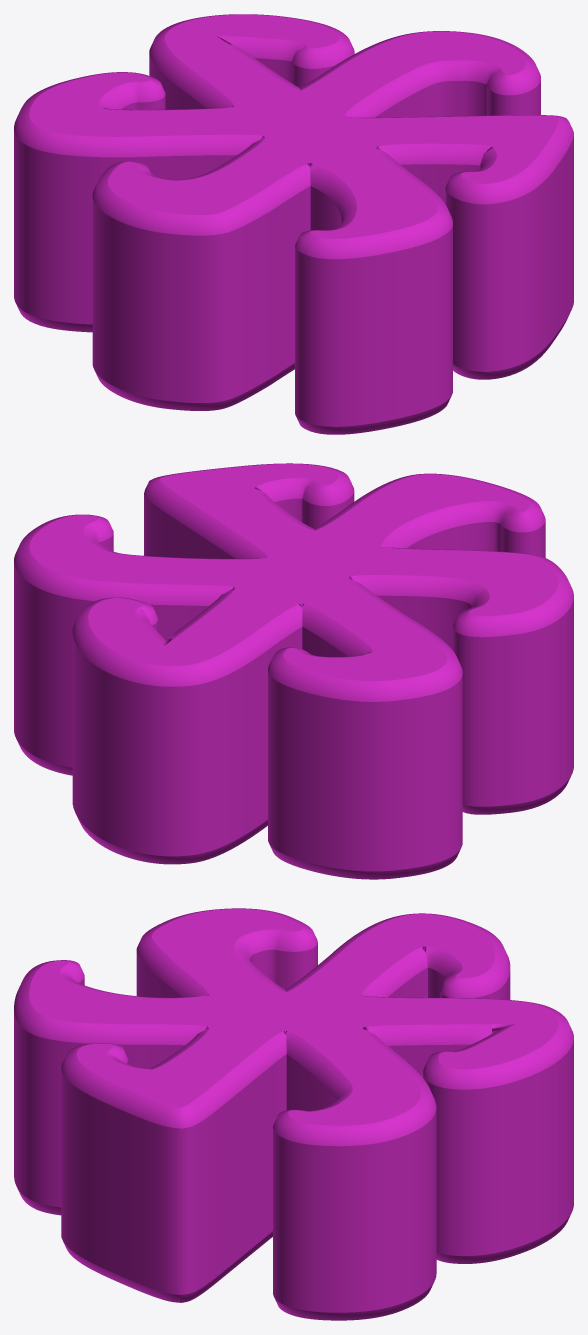
File: Asterisk.fbx
3 views of the same model, one above another, from view 1: azimuth 30°, elevation 25°; view 2: azimuth 150°, elevation 25°; view 3: azimuth 270°, elevation 25° (orthographic).
Parts seen in each view (by area): view 1: Asterisk; view 2: Asterisk; view 3: Asterisk.
Part boxes in pixels (<box>): Asterisk: <box>14,14,573,434</box>; Asterisk: <box>14,463,573,879</box>; Asterisk: <box>14,908,573,1320</box>.
Bounding box in the file's own units: 0.3554 × 0.14 × 0.3658.
